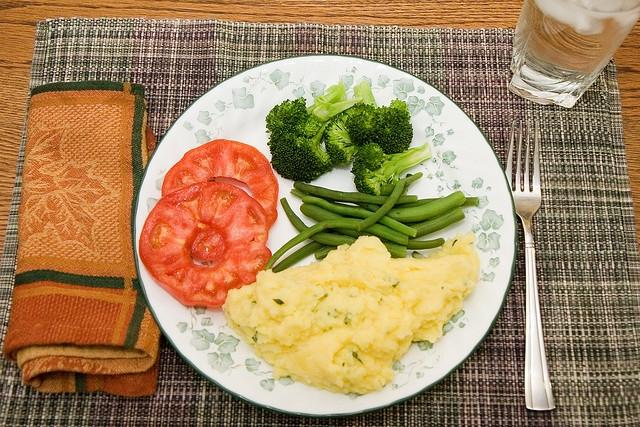broccoli: (265, 98, 333, 183), (342, 81, 413, 154), (350, 141, 432, 196), (324, 112, 362, 166)
green bean: (280, 197, 407, 259), (265, 218, 409, 270), (302, 195, 418, 237), (387, 190, 468, 223), (356, 178, 406, 231), (330, 227, 445, 250), (408, 206, 465, 240), (272, 241, 329, 274), (392, 197, 441, 208)
tomato: (140, 181, 271, 308), (161, 140, 277, 229)
